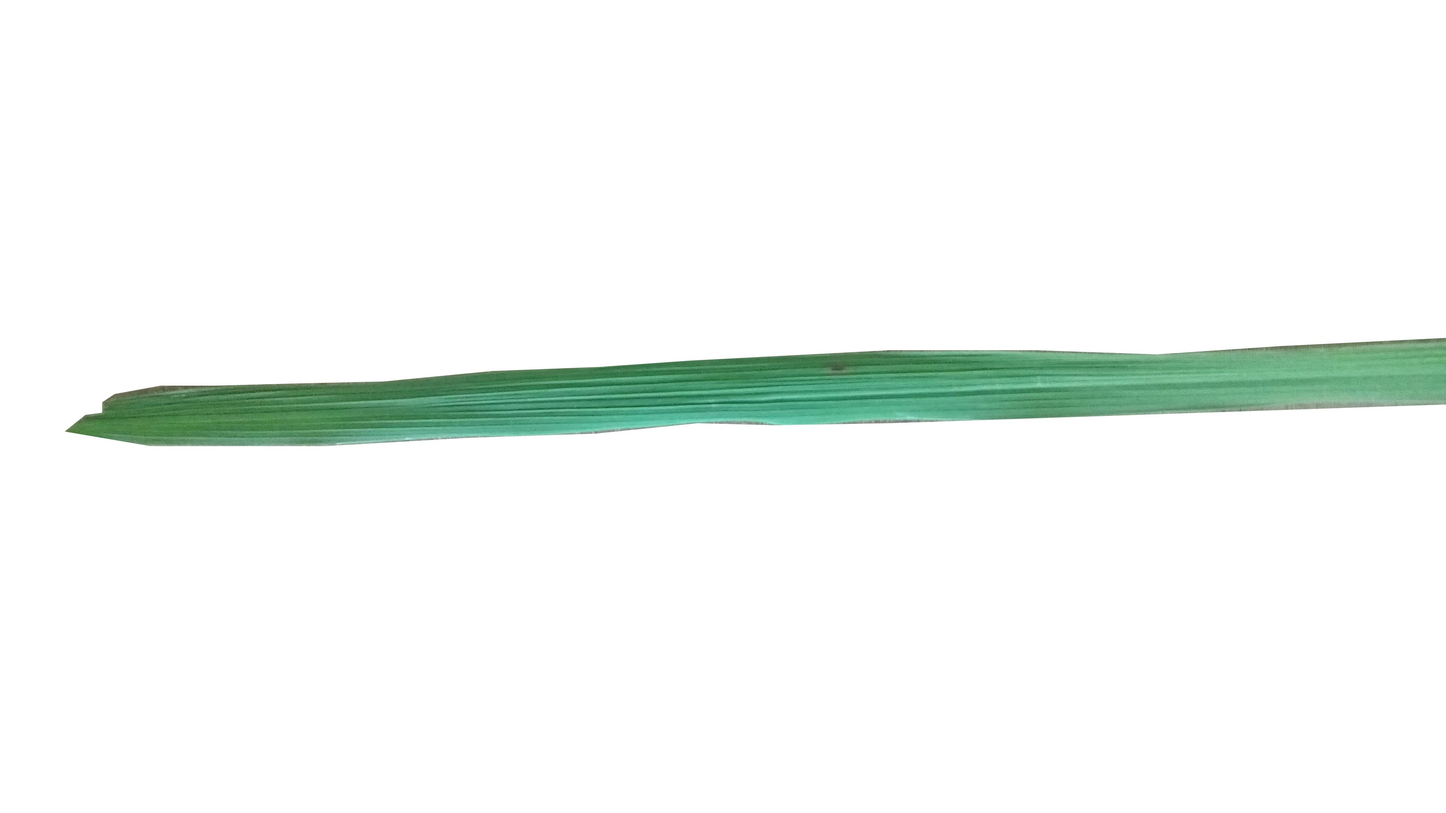Brown spot: (824, 357, 855, 382)
